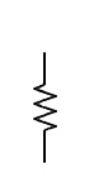resistor: (27, 74, 67, 139)
